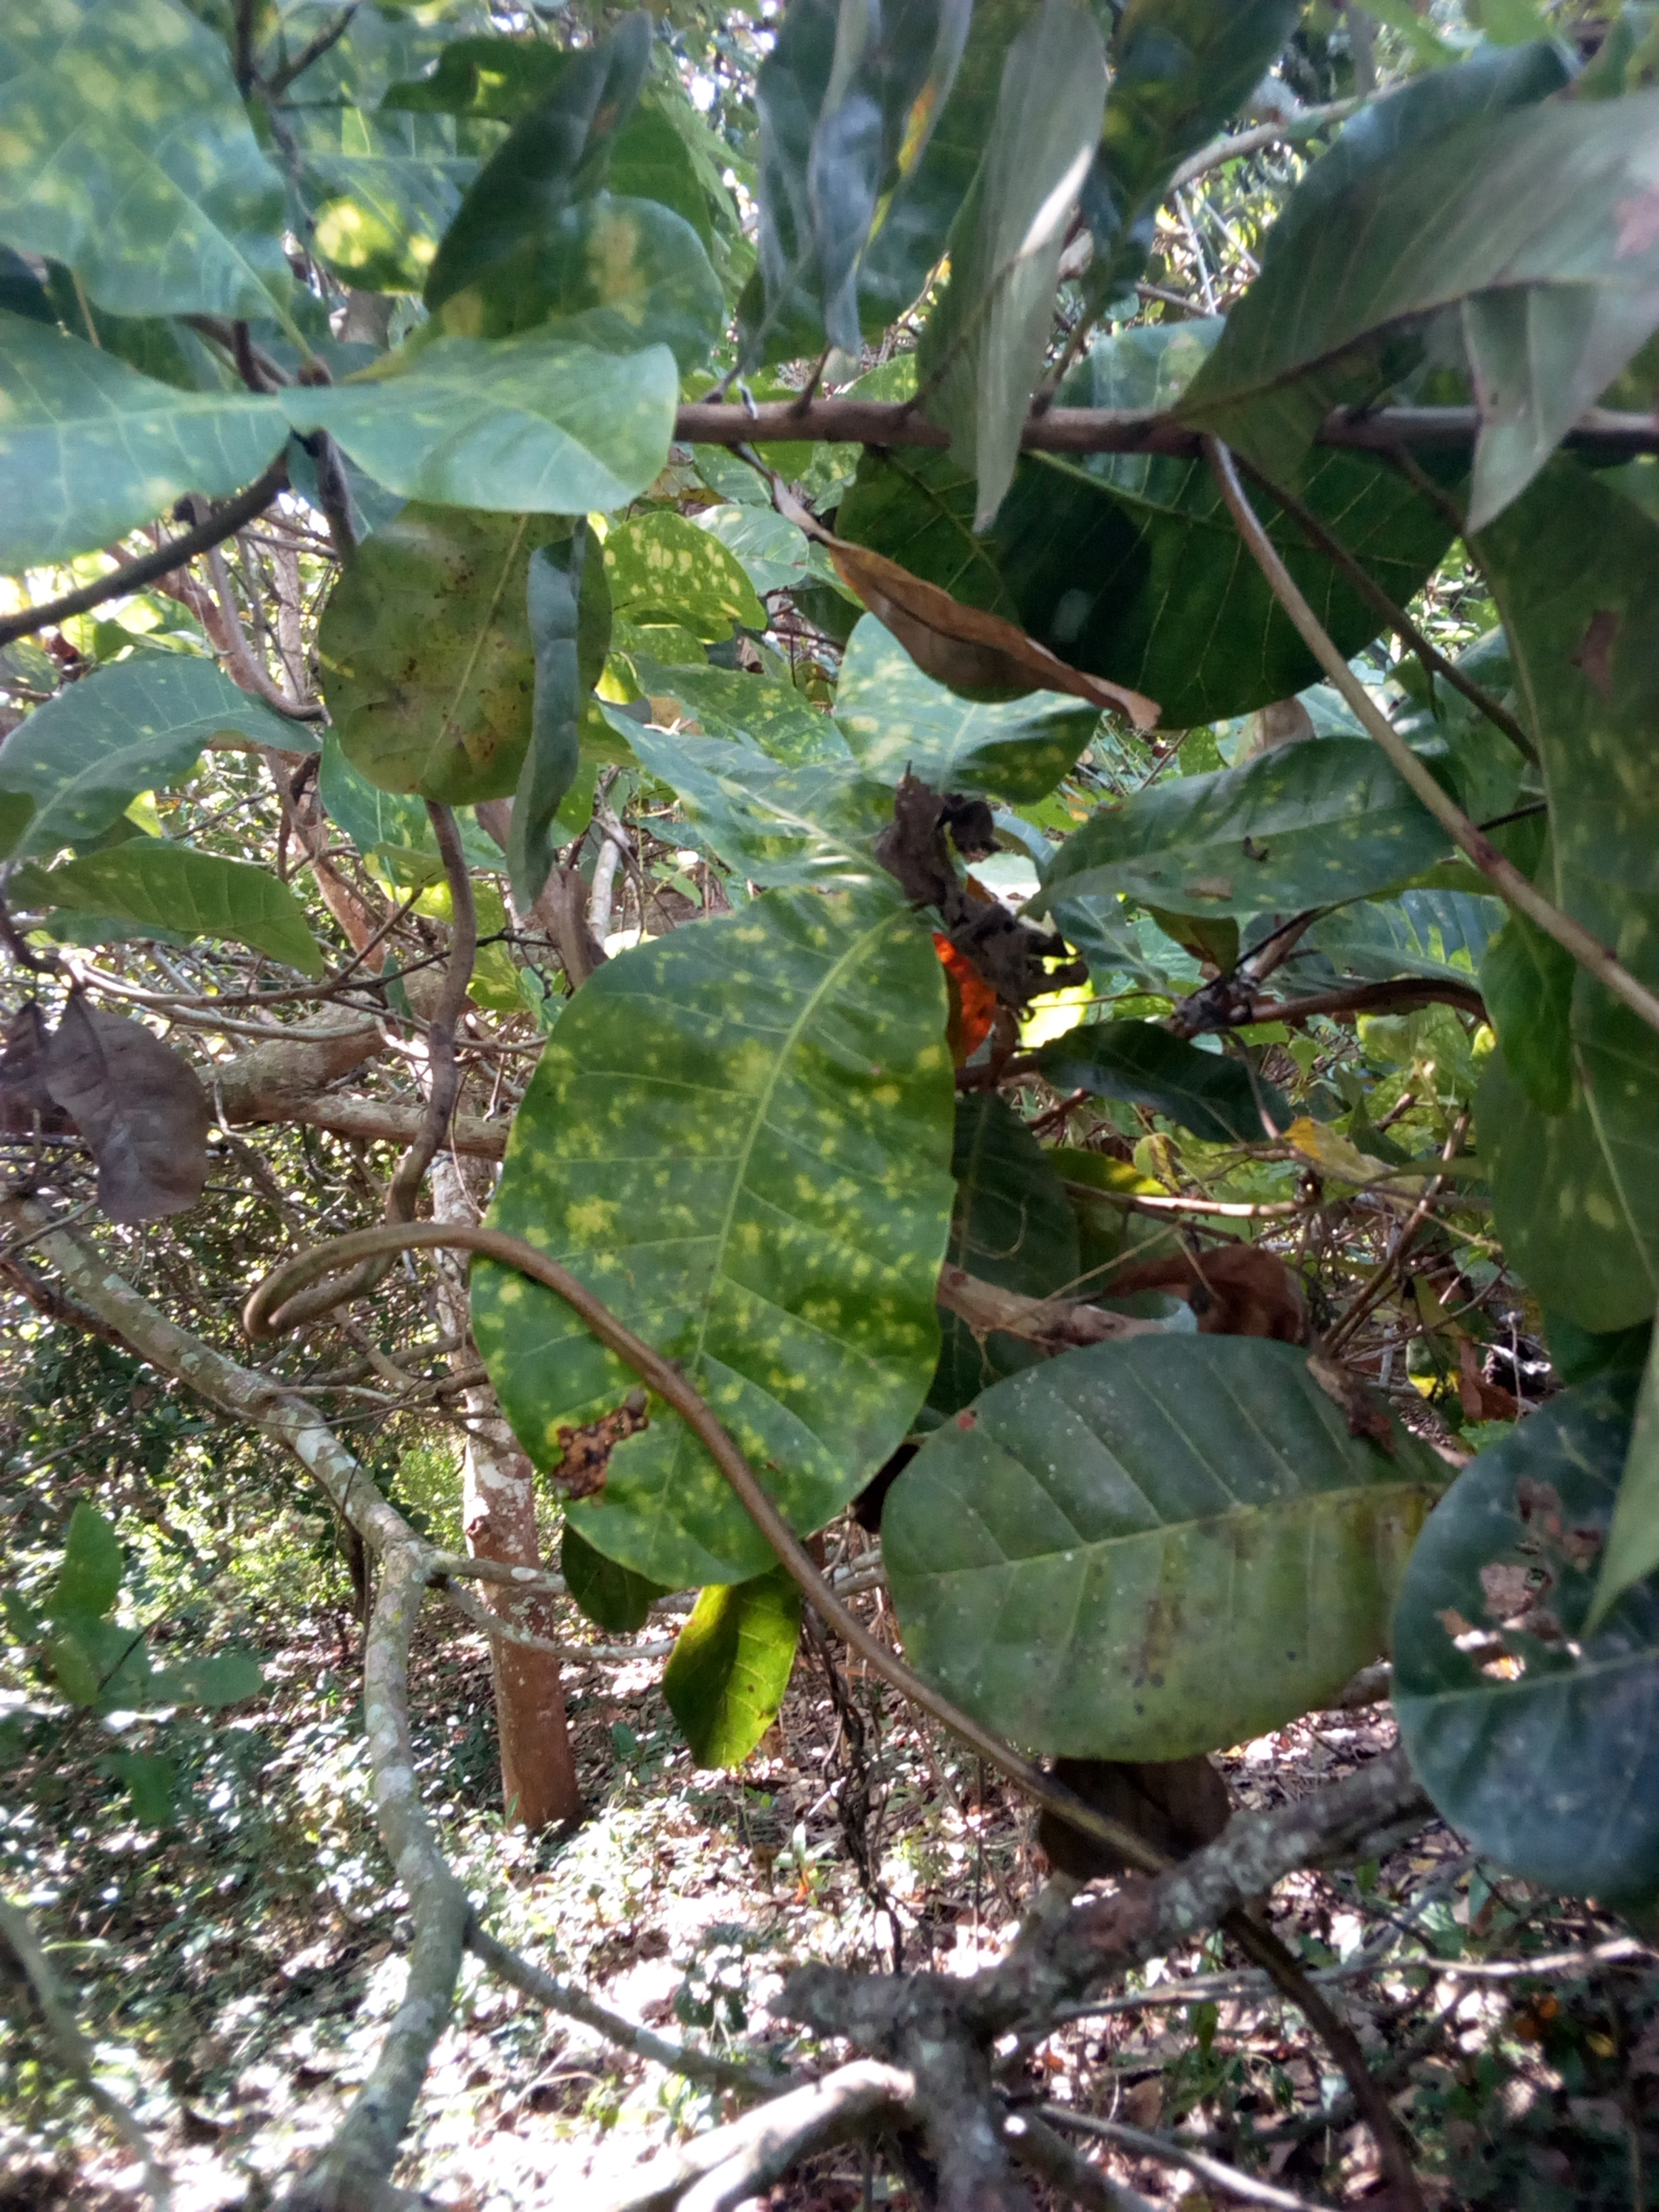Carence minérale: (410, 869, 1066, 1587), (1016, 693, 1542, 930), (9, 12, 335, 343), (281, 329, 735, 550), (0, 310, 321, 578), (840, 611, 1063, 855)
